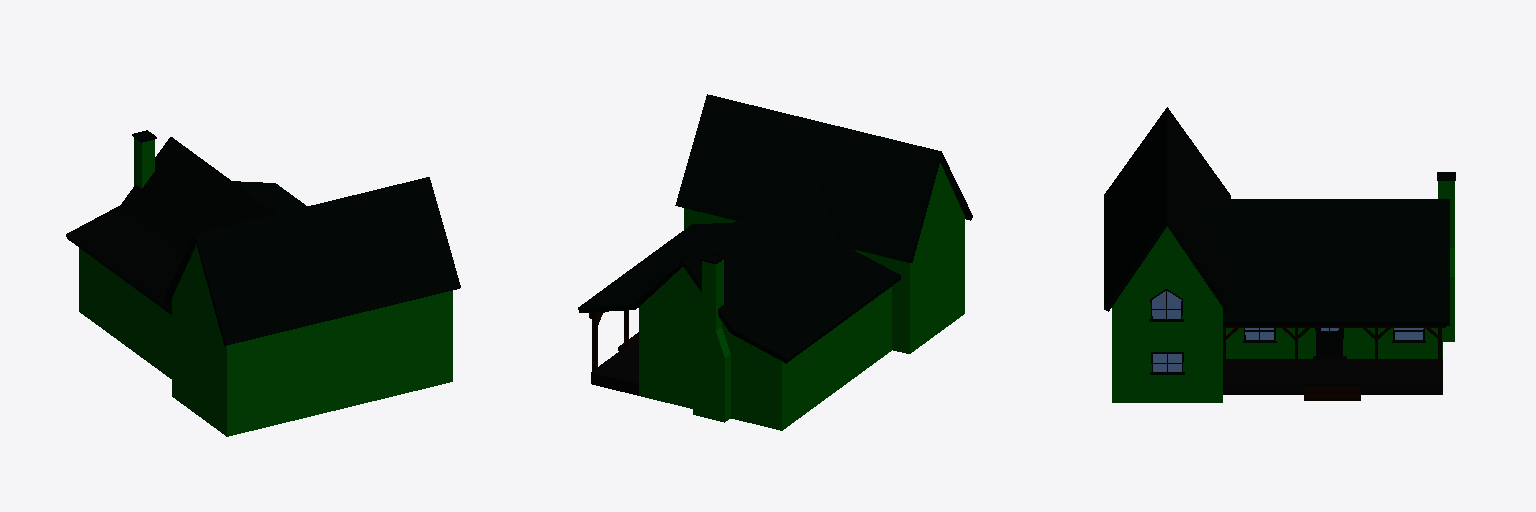
File: building_house1.obj
The picture shows the model from 3 angles: view 1: azimuth 30°, elevation 25°; view 2: azimuth 150°, elevation 25°; view 3: azimuth 270°, elevation 25°; orthographic projection.
Parts seen in each view (by area): view 1: Cube.031_Cube.034, Cube.030_Cube.033, Cube.029_Cube.030, Cube.028_Cube.023, Cube.038_Cube.042; view 2: Cube.031_Cube.034, Cube.029_Cube.030, Cube.028_Cube.023, Cube.030_Cube.033, Cube.038_Cube.042, Cube.043_Cube.017, Cube.044_Cube.031; view 3: Cube.029_Cube.030, Cube.031_Cube.034, Cube.030_Cube.033, Cube.043_Cube.017, Cube.028_Cube.023, Cube.044_Cube.031, Cube.038_Cube.042, Cube.037_Cube.040, Cube.050.
Part boxes in pixels (bbox=[...]): Cube.031_Cube.034: bbox=[164, 177, 460, 345]; Cube.030_Cube.033: bbox=[172, 244, 452, 436]; Cube.029_Cube.030: bbox=[66, 137, 306, 314]; Cube.028_Cube.023: bbox=[79, 248, 171, 378]; Cube.038_Cube.042: bbox=[134, 138, 154, 188]; Cube.031_Cube.034: bbox=[675, 94, 972, 262]; Cube.029_Cube.030: bbox=[578, 167, 900, 363]; Cube.028_Cube.023: bbox=[639, 267, 891, 430]; Cube.030_Cube.033: bbox=[684, 163, 964, 353]; Cube.038_Cube.042: bbox=[693, 259, 730, 422]; Cube.043_Cube.017: bbox=[591, 337, 638, 395]; Cube.044_Cube.031: bbox=[589, 311, 638, 372]; Cube.029_Cube.030: bbox=[1193, 199, 1449, 325]; Cube.031_Cube.034: bbox=[1104, 107, 1230, 311]; Cube.030_Cube.033: bbox=[1112, 227, 1222, 402]; Cube.043_Cube.017: bbox=[1223, 359, 1442, 394]; Cube.028_Cube.023: bbox=[1226, 328, 1442, 358]; Cube.044_Cube.031: bbox=[1223, 326, 1445, 400]; Cube.038_Cube.042: bbox=[1438, 181, 1454, 341]; Cube.037_Cube.040: bbox=[1315, 328, 1343, 356]; Cube.050: bbox=[1152, 291, 1181, 318].
Size of the model in its own units: 9.81 by 7.35 by 12.75.